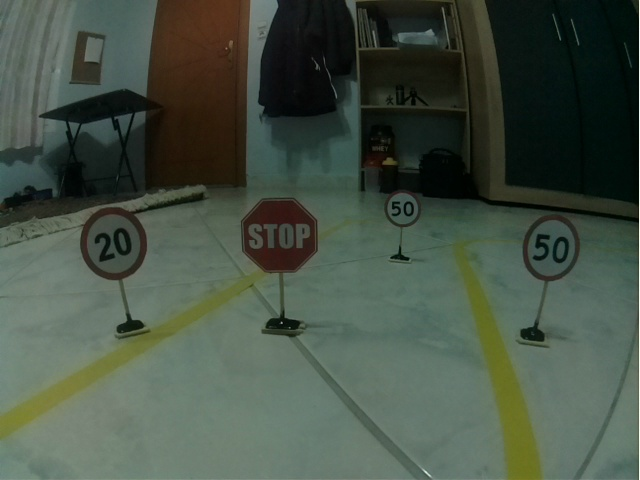Speed Limit 20: (79, 206, 148, 281)
Speed Limit 50: (523, 214, 580, 282), (384, 191, 421, 227)
Stop: (240, 197, 319, 274)
